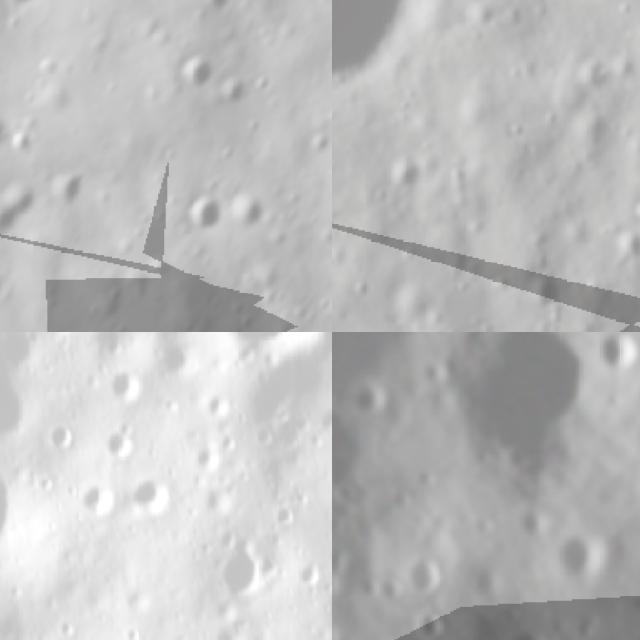crater: (408, 332, 639, 513), (332, 0, 464, 102), (544, 511, 627, 590), (392, 544, 462, 610), (0, 435, 27, 588), (376, 133, 438, 198), (579, 332, 640, 392), (341, 368, 401, 424), (0, 171, 47, 242), (480, 607, 576, 640), (224, 332, 329, 362), (220, 540, 271, 598), (507, 501, 558, 553), (404, 596, 460, 640), (369, 564, 415, 616), (44, 163, 86, 214), (226, 184, 270, 232), (177, 46, 219, 96), (126, 474, 176, 516), (182, 190, 225, 237), (104, 419, 142, 467), (160, 332, 199, 375), (214, 74, 251, 113), (572, 58, 610, 95), (3, 126, 38, 164), (82, 480, 115, 515), (112, 368, 143, 404), (296, 554, 326, 589), (197, 442, 226, 473), (208, 388, 240, 416), (208, 483, 238, 512), (208, 622, 245, 640), (49, 422, 76, 445), (198, 0, 234, 16), (276, 500, 298, 524), (0, 109, 11, 155)
